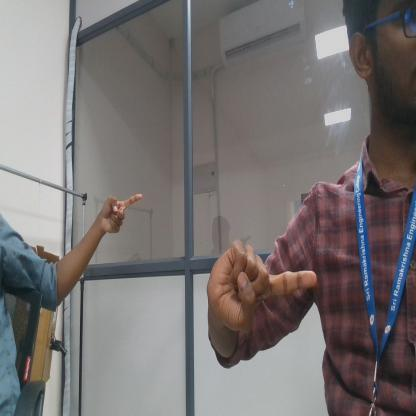Left: (202, 232, 324, 335), (93, 180, 150, 247)
